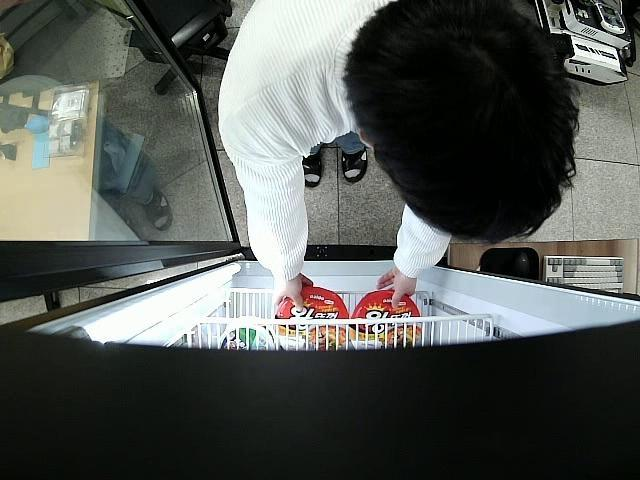10_wangTtukkeong: (272, 286, 348, 355), (352, 291, 421, 353)
